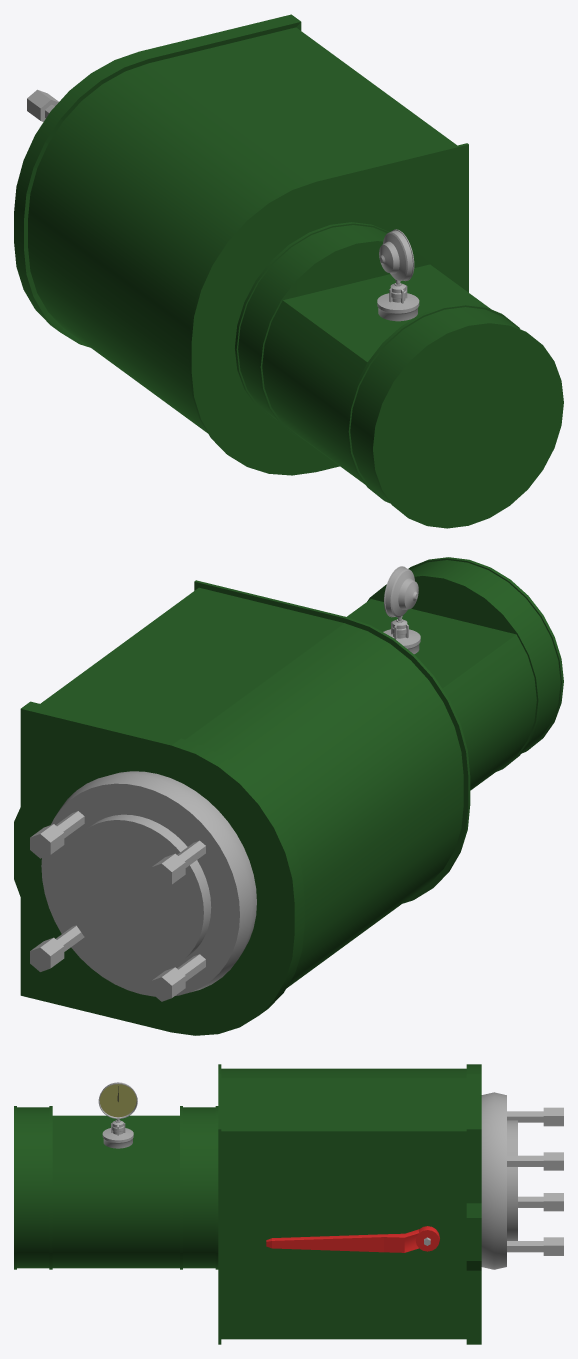
The model's file is Vent.fbx.
3 views of the same model, one above another, from view 1: azimuth 30°, elevation 25°; view 2: azimuth 150°, elevation 25°; view 3: azimuth 270°, elevation 25° (orthographic). The views are drawn at different scales.
Visible parts, largest first — view 1: venttiili_Frame, Gauge_Frame, Gauge_Connector; view 2: venttiili_Frame, Gauge_Frame, Gauge_Connector; view 3: venttiili_Frame, Gauge_Frame, venttiili_Handle, Gauge_Connector.
Part boxes in pixels (bbox=[...]): venttiili_Frame: bbox=[14, 14, 468, 475]; Gauge_Frame: bbox=[235, 222, 563, 528]; Gauge_Connector: bbox=[377, 229, 419, 321]; venttiili_Frame: bbox=[14, 580, 470, 1035]; Gauge_Frame: bbox=[347, 557, 563, 790]; Gauge_Connector: bbox=[383, 566, 420, 654]; venttiili_Frame: bbox=[218, 1064, 563, 1344]; Gauge_Frame: bbox=[14, 1106, 218, 1269]; venttiili_Handle: bbox=[266, 1226, 439, 1252]; Gauge_Connector: bbox=[98, 1082, 137, 1148].
Bounding box in the file's own units: 25.09 × 23.18 × 53.73.
